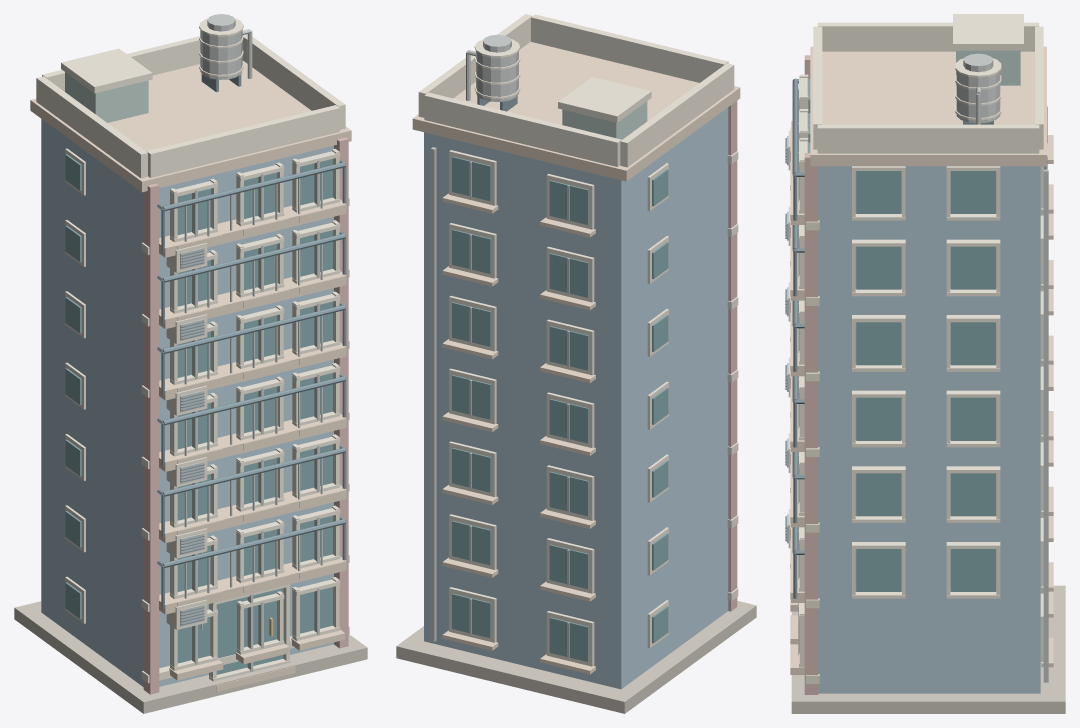
Rendered from town-apartment-2.glb.
The picture shows the model from 3 angles, left to right: view 1: azimuth 30°, elevation 25°; view 2: azimuth 150°, elevation 25°; view 3: azimuth 270°, elevation 25°; orthographic projection. The views are drawn at different scales.
Visible parts, largest first — view 1: paving; view 2: paving; view 3: paving.
Part boxes in pixels (bbox=[...]): paving: bbox=[14, 14, 367, 713]; paving: bbox=[396, 14, 756, 713]; paving: bbox=[785, 14, 1065, 713].
Size of the model in its own units: 2.2 by 5.53 by 2.25.
1 material, 1 textured.
